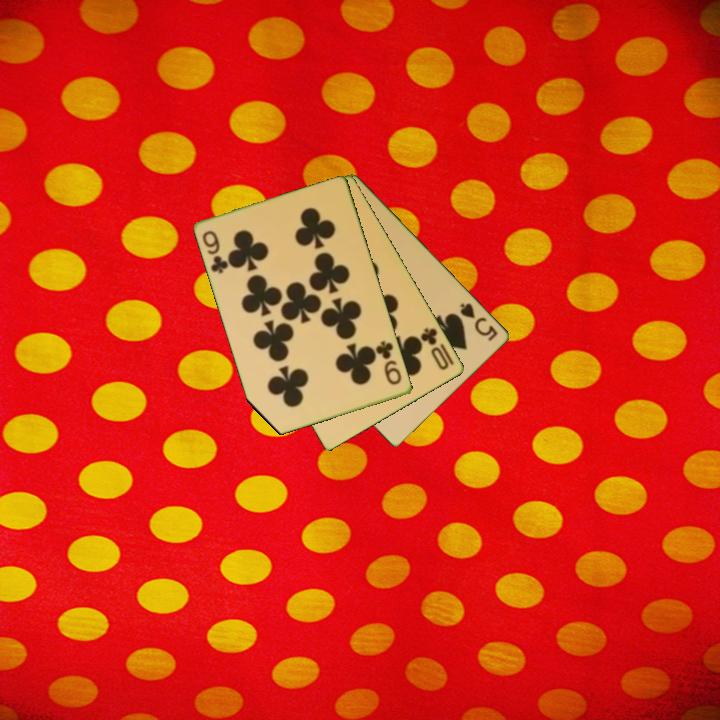10c: (417, 324, 452, 373)
5s: (457, 299, 501, 344)
9c: (372, 337, 405, 388), (199, 227, 232, 277)
